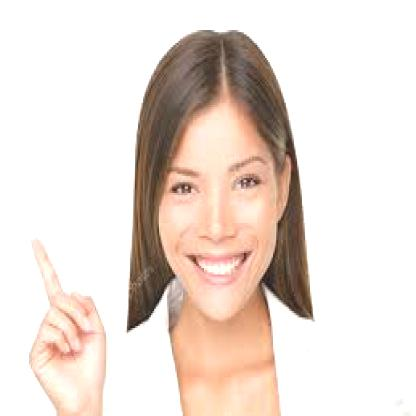Up: (36, 208, 101, 388)
